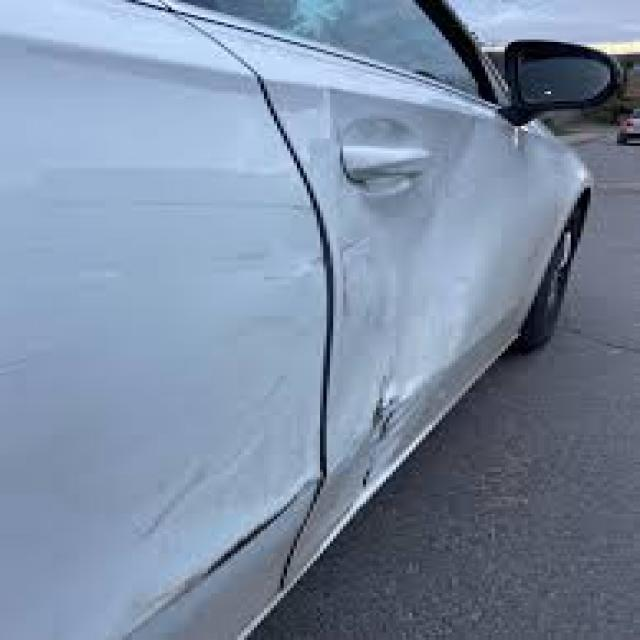damaged-door: (221, 0, 561, 558)
